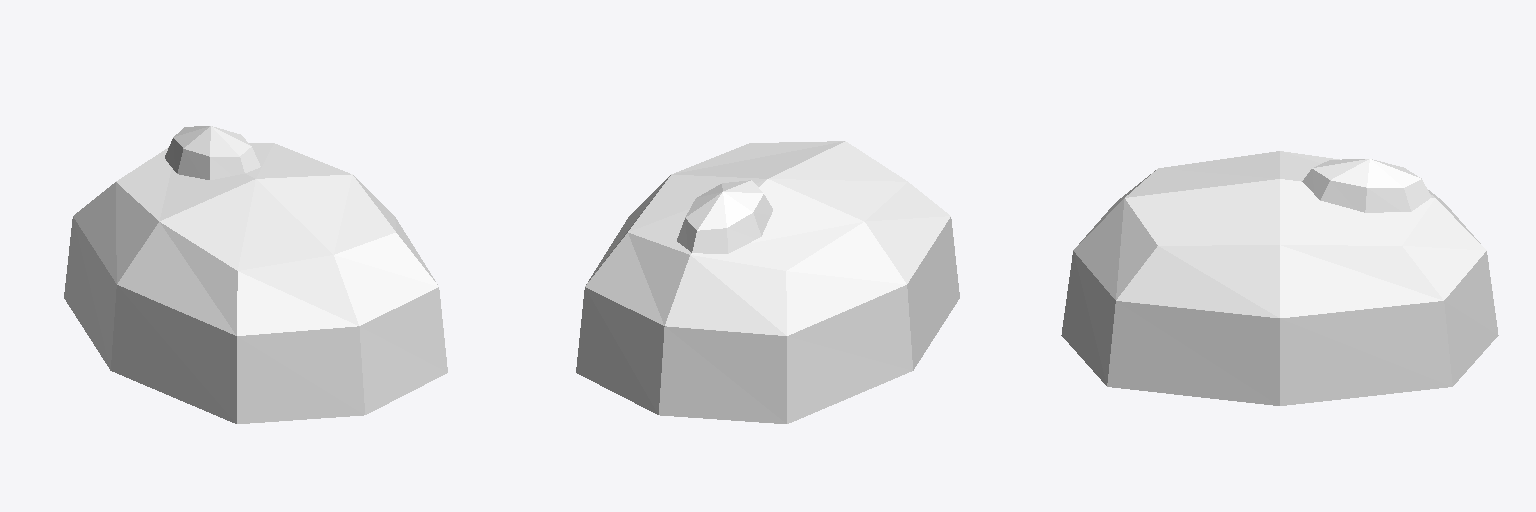
File: mouse.obj
The picture shows the model from 3 angles: view 1: azimuth 30°, elevation 25°; view 2: azimuth 150°, elevation 25°; view 3: azimuth 270°, elevation 25°; orthographic projection.
Visible parts, largest first — view 1: mouse_Cube.18235; view 2: mouse_Cube.18235; view 3: mouse_Cube.18235.
Boxes of the visible parts, x1,y1,x2,y2 form: mouse_Cube.18235: [64, 126, 447, 423]; mouse_Cube.18235: [576, 141, 959, 423]; mouse_Cube.18235: [1061, 151, 1498, 405].
Size of the model in its own units: 0.2681 by 0.1715 by 0.3494.